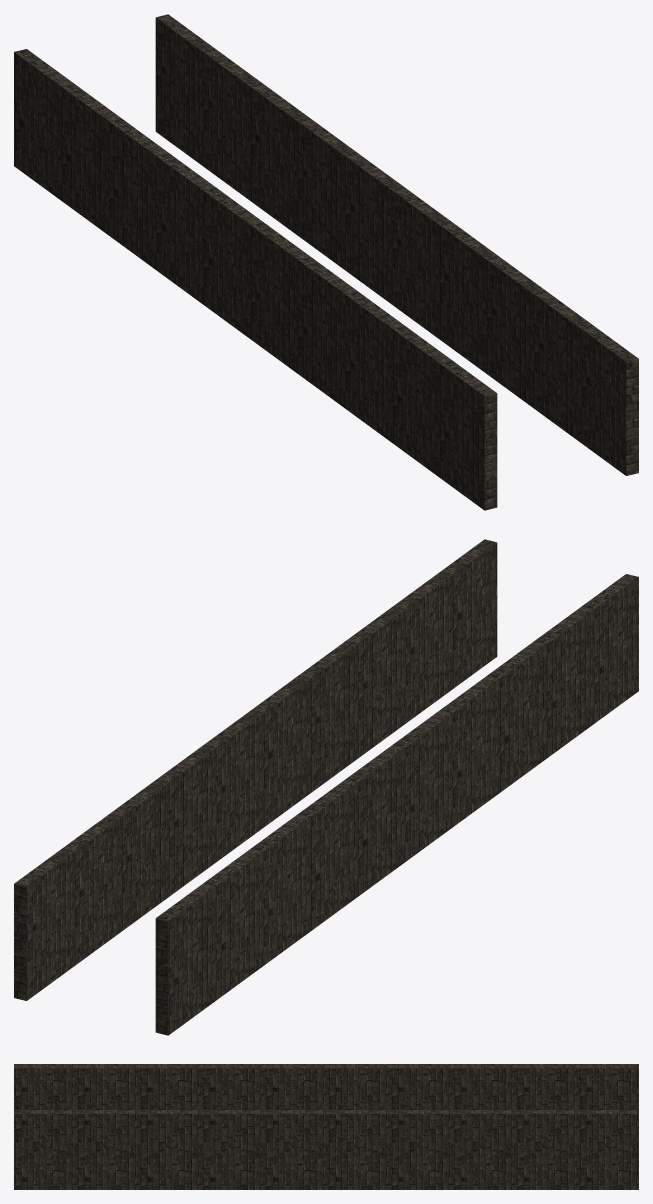
The model's file is hallway.fbx.
The picture shows the model from 3 angles, top to bottom: view 1: azimuth 30°, elevation 25°; view 2: azimuth 150°, elevation 25°; view 3: azimuth 270°, elevation 25°; orthographic projection. The views are drawn at different scales.
Parts seen in each view (by area): view 1: pCube23; view 2: pCube23; view 3: pCube23.
Boxes of the visible parts, x1,y1,x2,y2 form: pCube23: (14,14,638,510); pCube23: (14,539,638,1035); pCube23: (14,1064,638,1189).
Bounding box in the file's own units: 12.12 × 8.57 × 64.02.
